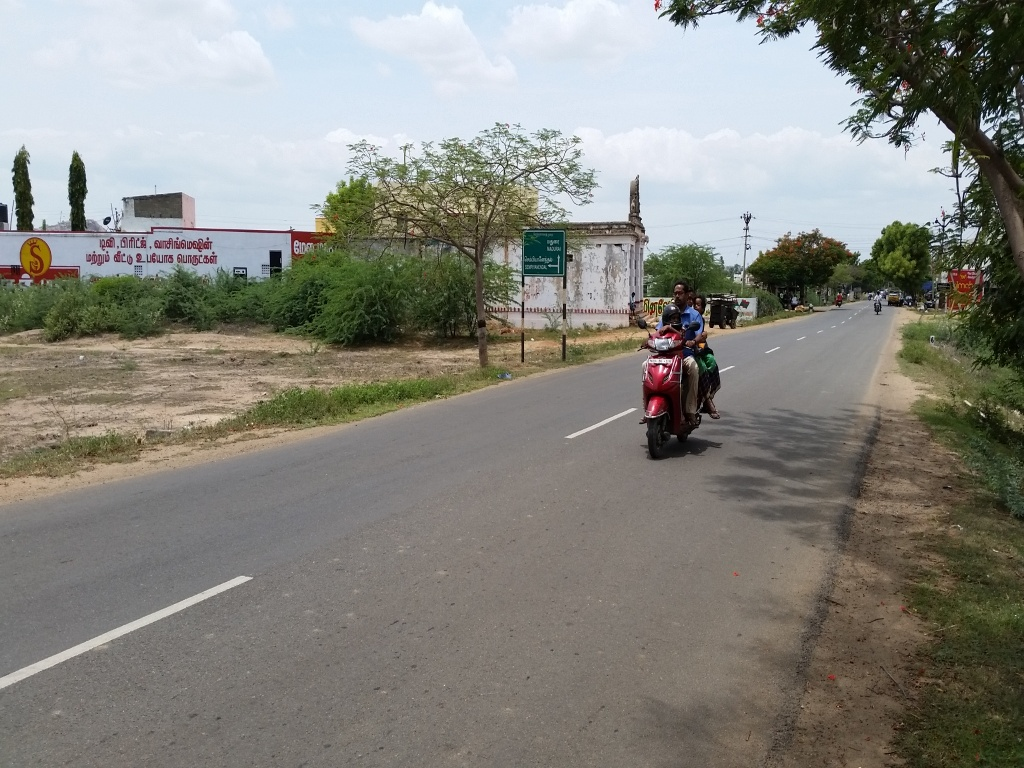biker: (621, 255, 735, 470)
helmet: (659, 303, 684, 335)
nohelmet: (691, 289, 712, 318), (671, 277, 692, 305)
